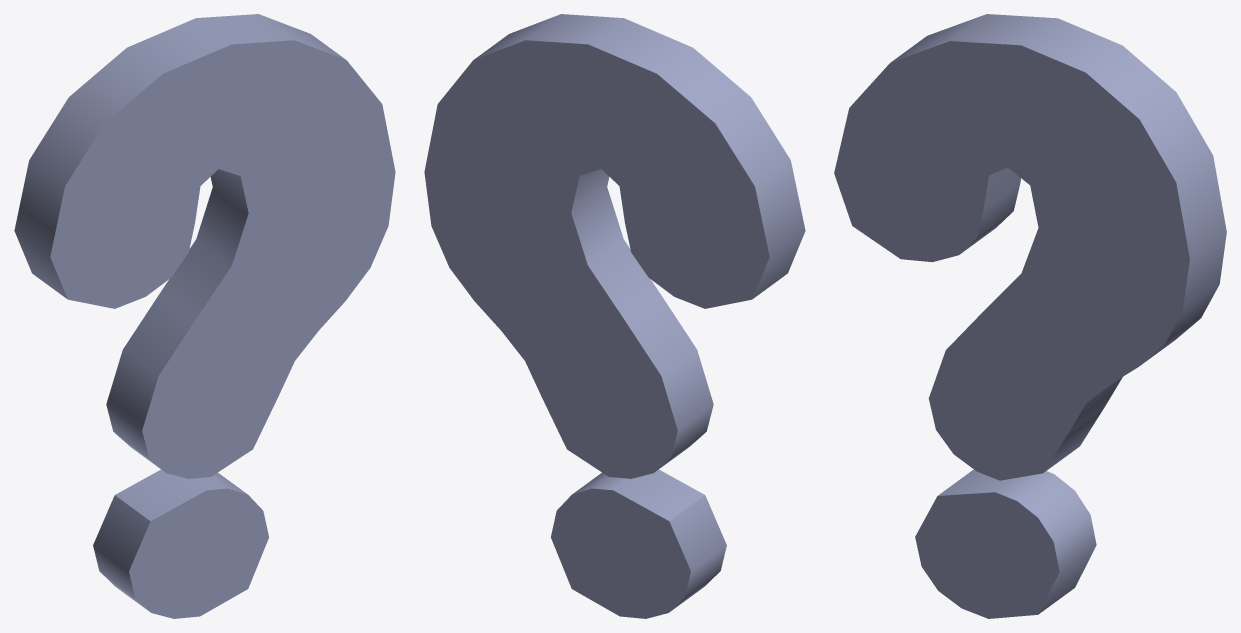
Rendered from Question Mark_2.fbx.
3 views of the same model, side by side, from view 1: azimuth 30°, elevation 25°; view 2: azimuth 150°, elevation 25°; view 3: azimuth 330°, elevation 25° (orthographic). The views are drawn at different scales.
Parts seen in each view (by area): view 1: Question Mark_2; view 2: Question Mark_2; view 3: Question Mark_2.
Part boxes in pixels (bbox=[...]): Question Mark_2: bbox=[14, 14, 395, 618]; Question Mark_2: bbox=[424, 14, 805, 618]; Question Mark_2: bbox=[834, 14, 1226, 618].
Size of the model in its own units: 0.1104 by 0.1723 by 0.0199.
